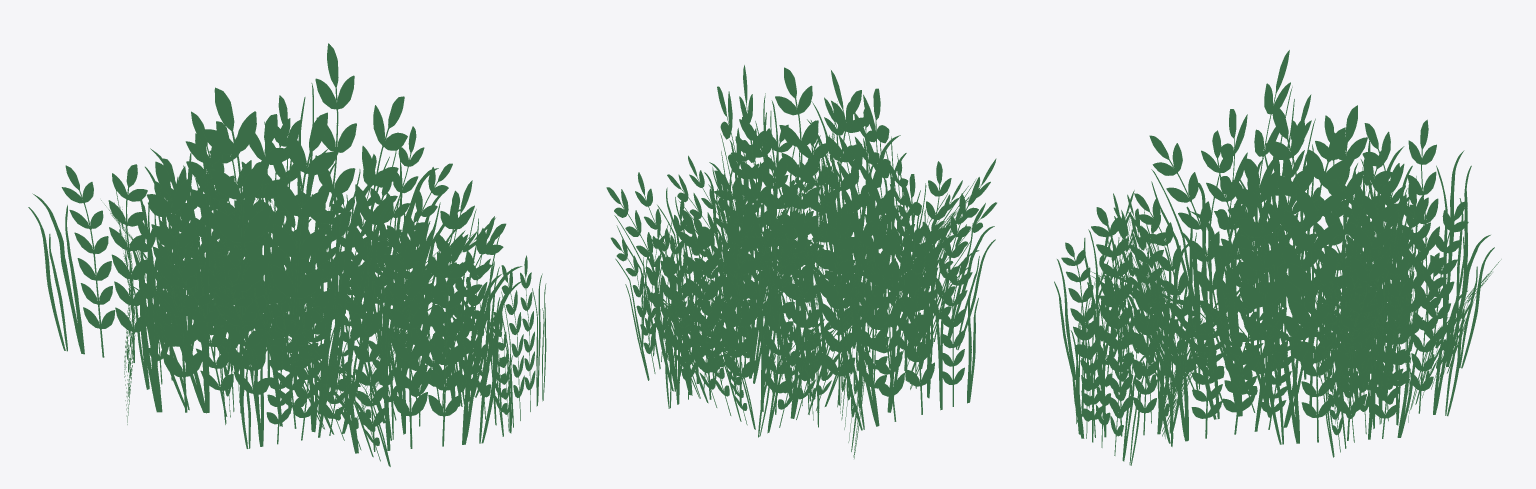
Rendered from MEADOW_SM_Grass_03_03.gltf.
The picture shows the model from 3 angles, left to right: view 1: azimuth 30°, elevation 25°; view 2: azimuth 150°, elevation 25°; view 3: azimuth 270°, elevation 25°; orthographic projection. The views are drawn at different scales.
Visible parts, largest first — view 1: SM_Grass_03_03_LOD0; view 2: SM_Grass_03_03_LOD0; view 3: SM_Grass_03_03_LOD0.
Part boxes in pixels (x1,y1,x2,y2): SM_Grass_03_03_LOD0: [28, 43, 546, 466]; SM_Grass_03_03_LOD0: [606, 65, 996, 458]; SM_Grass_03_03_LOD0: [1054, 50, 1501, 465].
Bounding box in the file's own units: 0.8216 × 0.6319 × 0.9049.
1 material, 1 textured.
